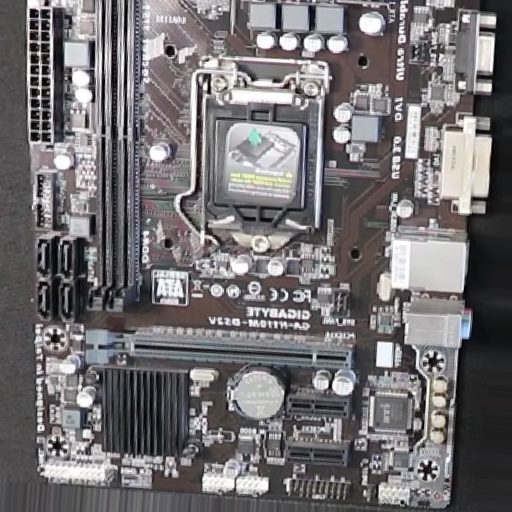CPU: (199, 61, 330, 251)
GPU: (84, 325, 354, 370)
MOTHERBOARD: (25, 1, 482, 512)
RAM: (84, 1, 140, 313)
